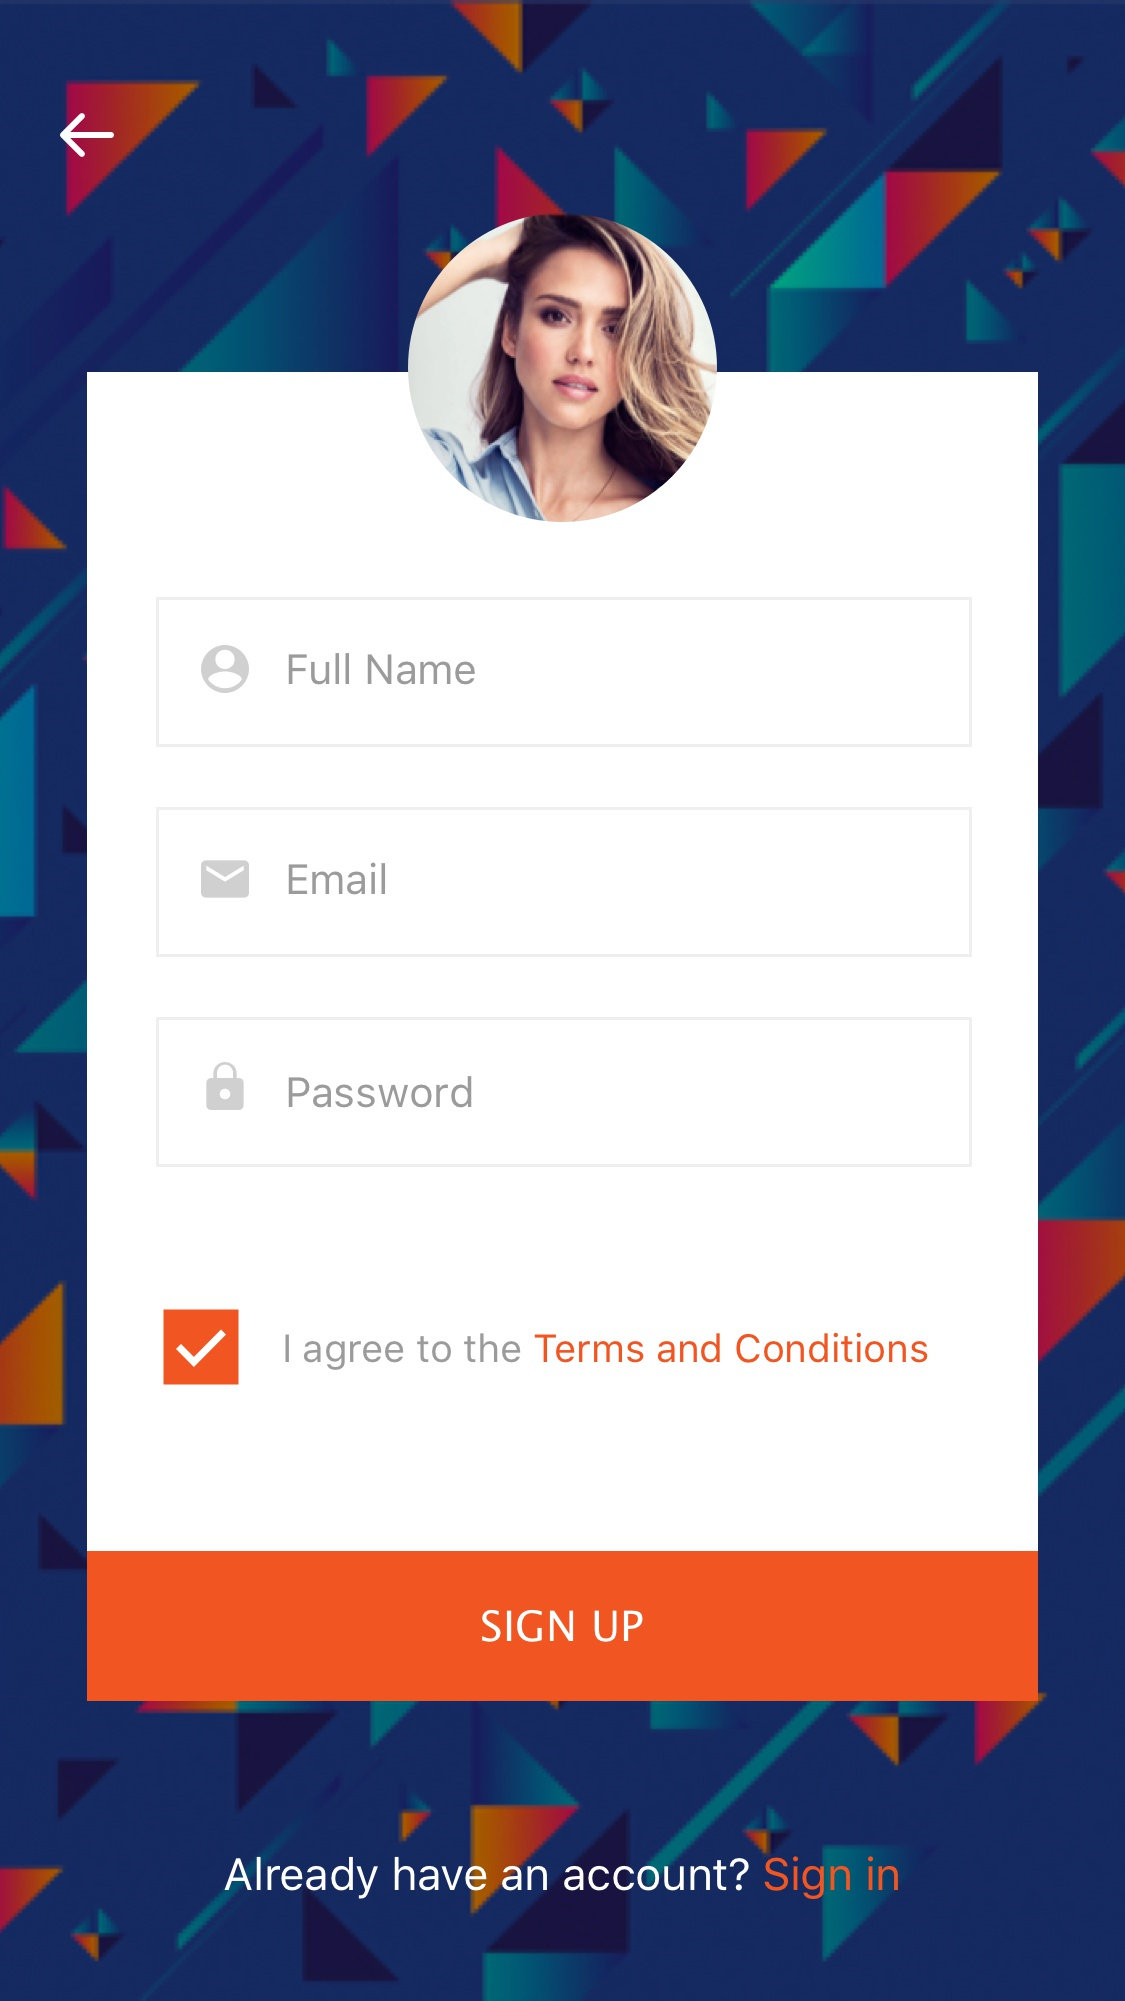BackgroundImage: (1, 1, 1125, 2000)
CheckedTextView: (163, 1308, 929, 1387)
EditText: (157, 596, 973, 748), (157, 807, 973, 958), (157, 1017, 973, 1168)
Icon: (60, 111, 115, 159), (201, 645, 250, 694), (201, 860, 250, 899), (206, 1062, 245, 1110)
Image: (408, 214, 718, 524)
Text: (224, 1855, 900, 1901), (284, 1332, 929, 1372), (288, 653, 477, 686), (288, 1076, 473, 1109), (288, 862, 386, 895)
TextButton: (87, 1552, 1038, 1701)
